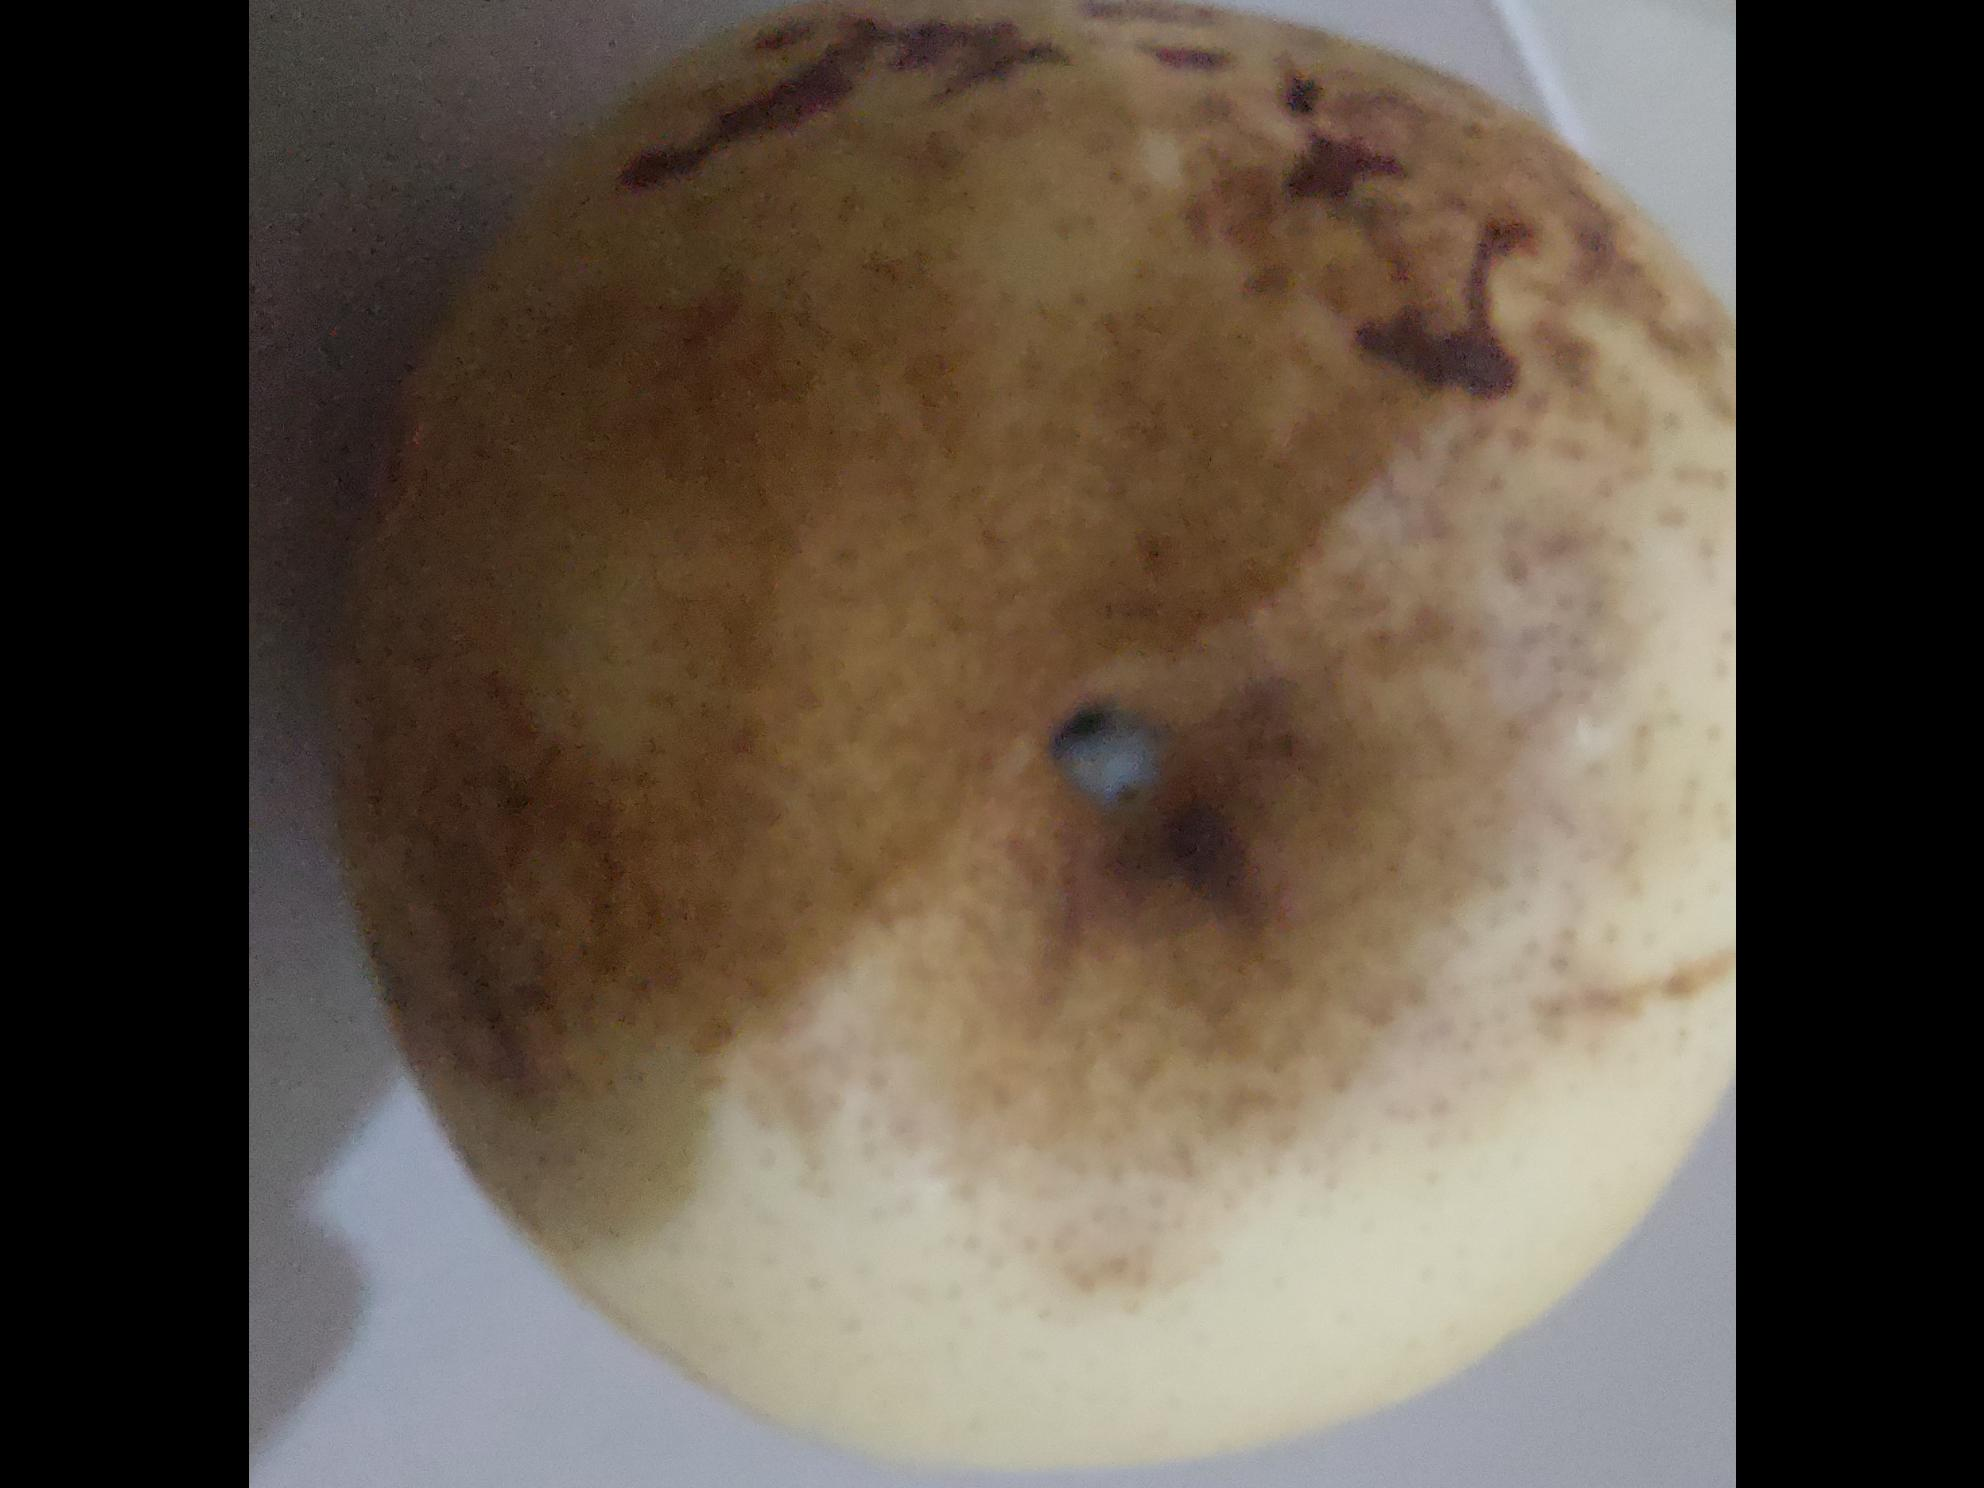Bad Pear: (345, 0, 1736, 1488)
